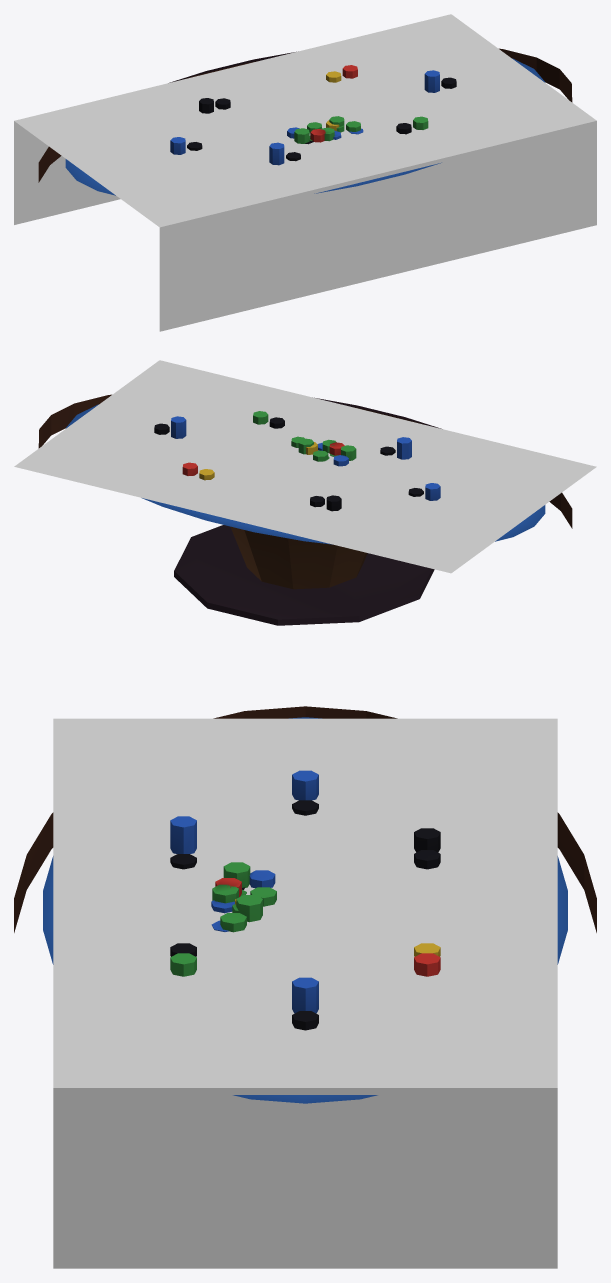
File: poker_table.glb
3 views of the same model, one above another, from view 1: azimuth 30°, elevation 25°; view 2: azimuth 150°, elevation 25°; view 3: azimuth 270°, elevation 25° (orthographic). The views are drawn at different scales.
Visible parts, largest first — view 1: COL_0, poker_table; view 2: COL_0, poker_table; view 3: COL_0, poker_table.
Boxes of the visible parts, left/top/right/bottom form: COL_0: left=14, top=14, right=596, bottom=331; poker_table: left=38, top=48, right=572, bottom=195; COL_0: left=14, top=360, right=596, bottom=573; poker_table: left=38, top=394, right=572, bottom=625; COL_0: left=53, top=718, right=557, bottom=1268; poker_table: left=14, top=706, right=596, bottom=1103.
Size of the model in its own units: 5.2 by 1.18 by 2.98.
